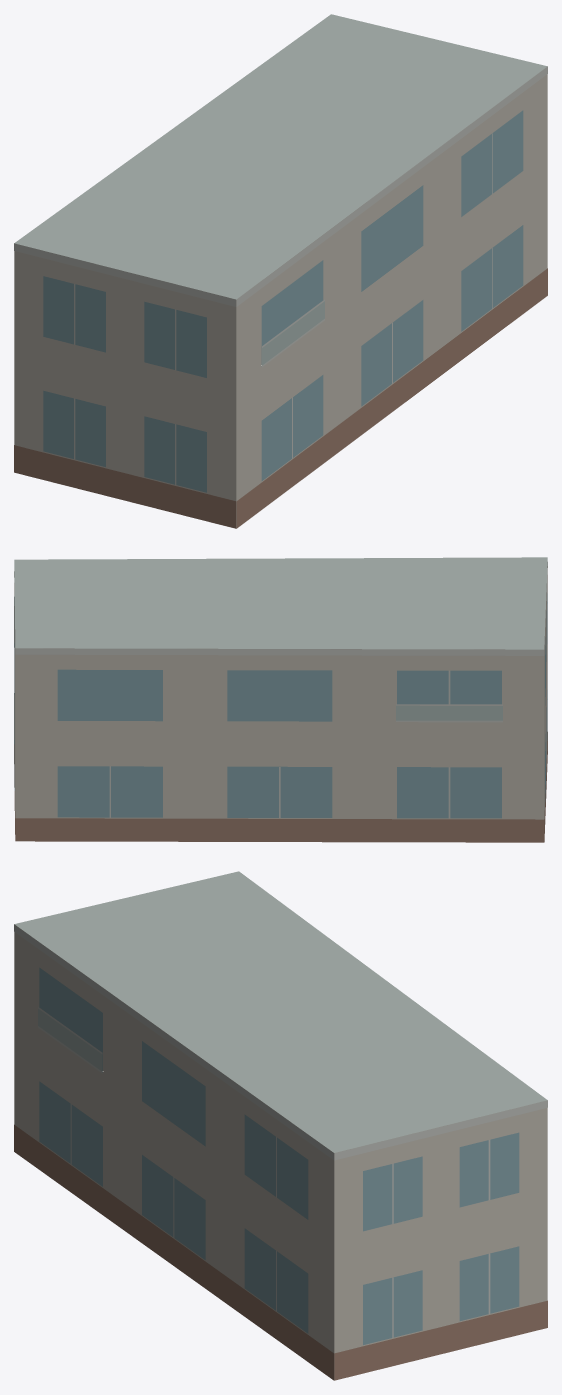
Rendered from survey-upis-32881991.glb.
3 views of the same model, one above another, from view 1: azimuth 30°, elevation 25°; view 2: azimuth 150°, elevation 25°; view 3: azimuth 270°, elevation 25° (orthographic). The views are drawn at different scales.
Parts seen in each view (by area): view 1: survey-upis-32881991.tmp; view 2: survey-upis-32881991.tmp; view 3: survey-upis-32881991.tmp.
Boxes of the visible parts, x1,y1,x2,y2 form: survey-upis-32881991.tmp: [14, 14, 547, 528]; survey-upis-32881991.tmp: [14, 557, 547, 842]; survey-upis-32881991.tmp: [14, 871, 547, 1380].
Bounding box in the file's own units: 19.66 × 7.4 × 15.74.
